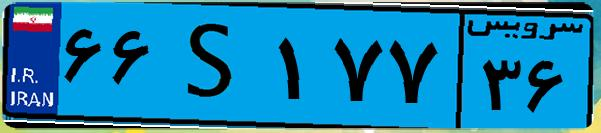1: (270, 28, 330, 110)
3: (475, 38, 525, 113)
6: (57, 26, 110, 100), (525, 38, 570, 115), (110, 28, 158, 98)
7: (385, 28, 445, 110), (330, 28, 385, 110)
S: (158, 12, 270, 120)
